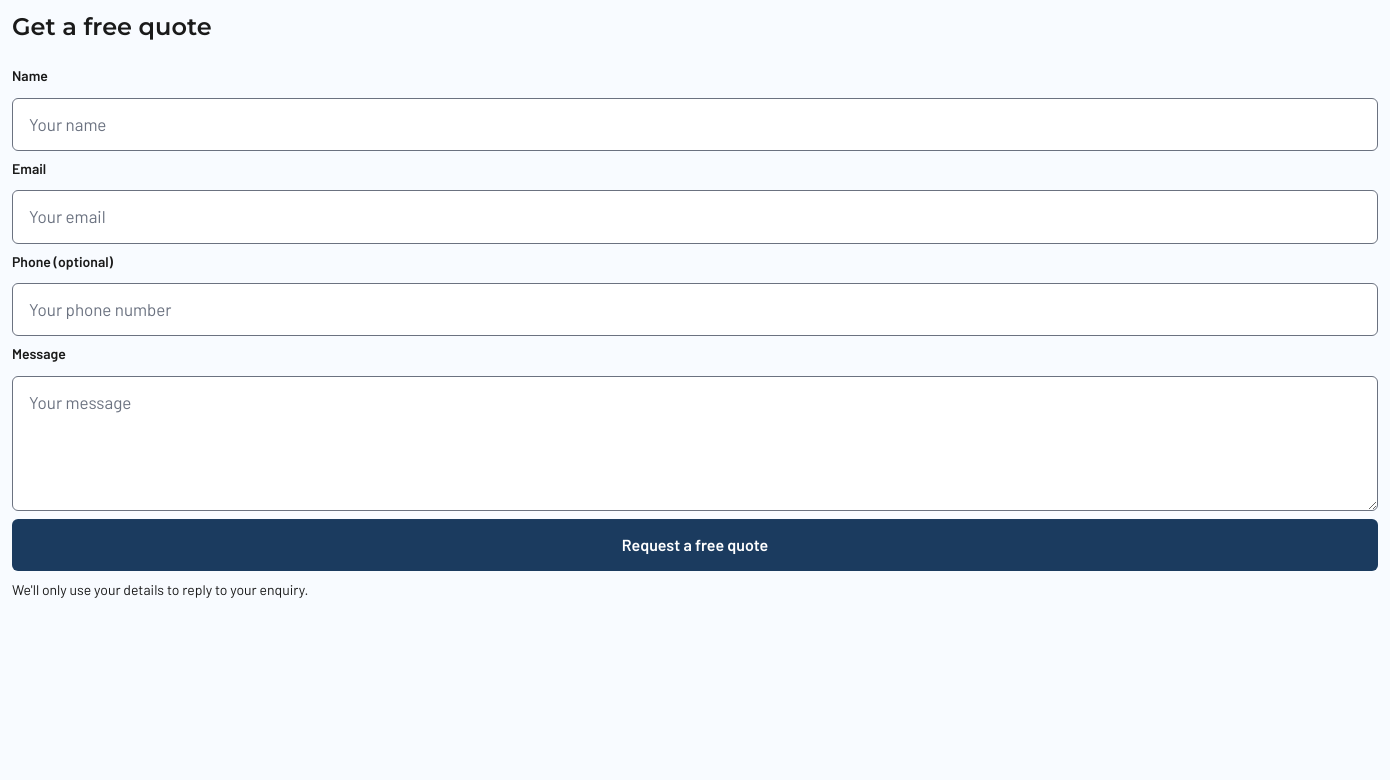
it: QuoteRequest › validation › clears an error as soon as the field is fixed
The width and height of the screenshot is (1390, 780).
Click the button "Request a free quote" at (695, 545), box [12, 519, 1378, 571]
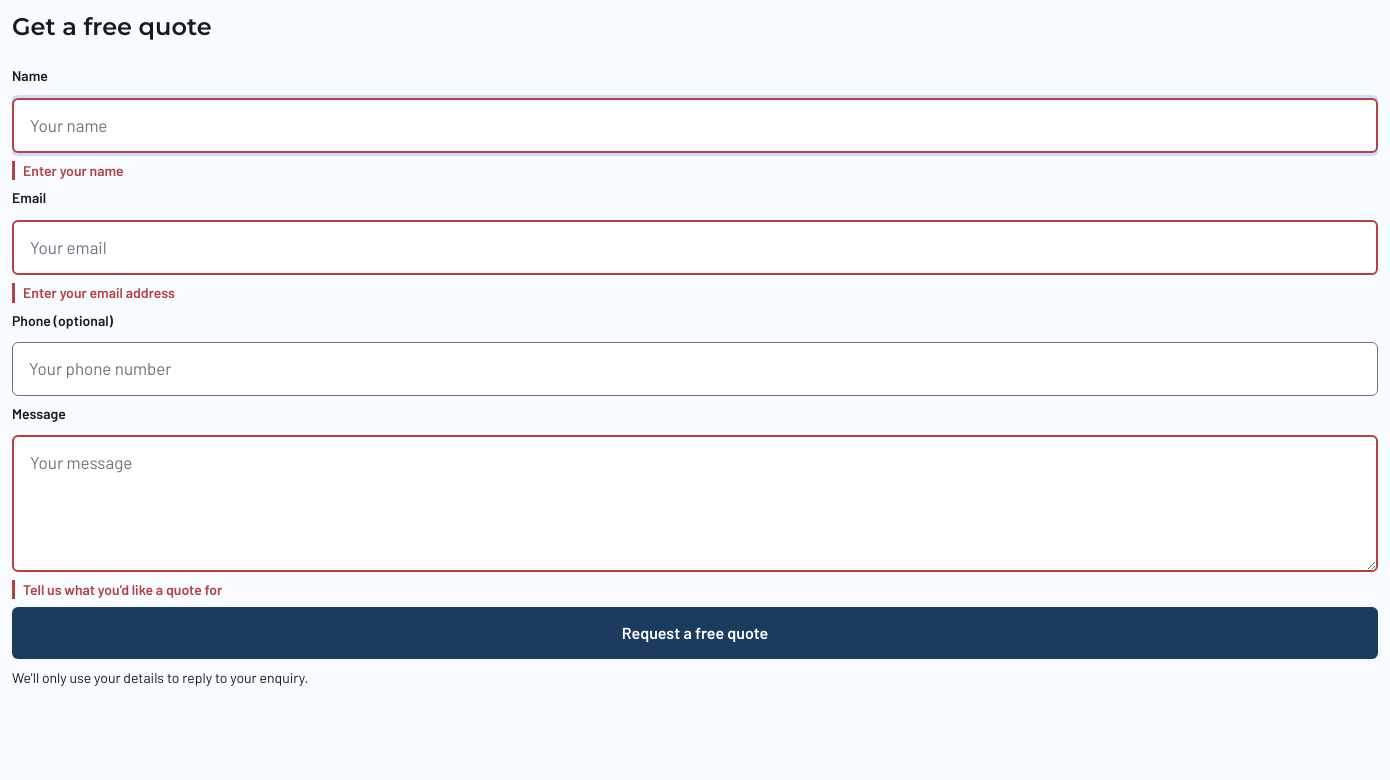
Type "S" into the field labelled "Name" at (695, 125), box [12, 98, 1378, 153]
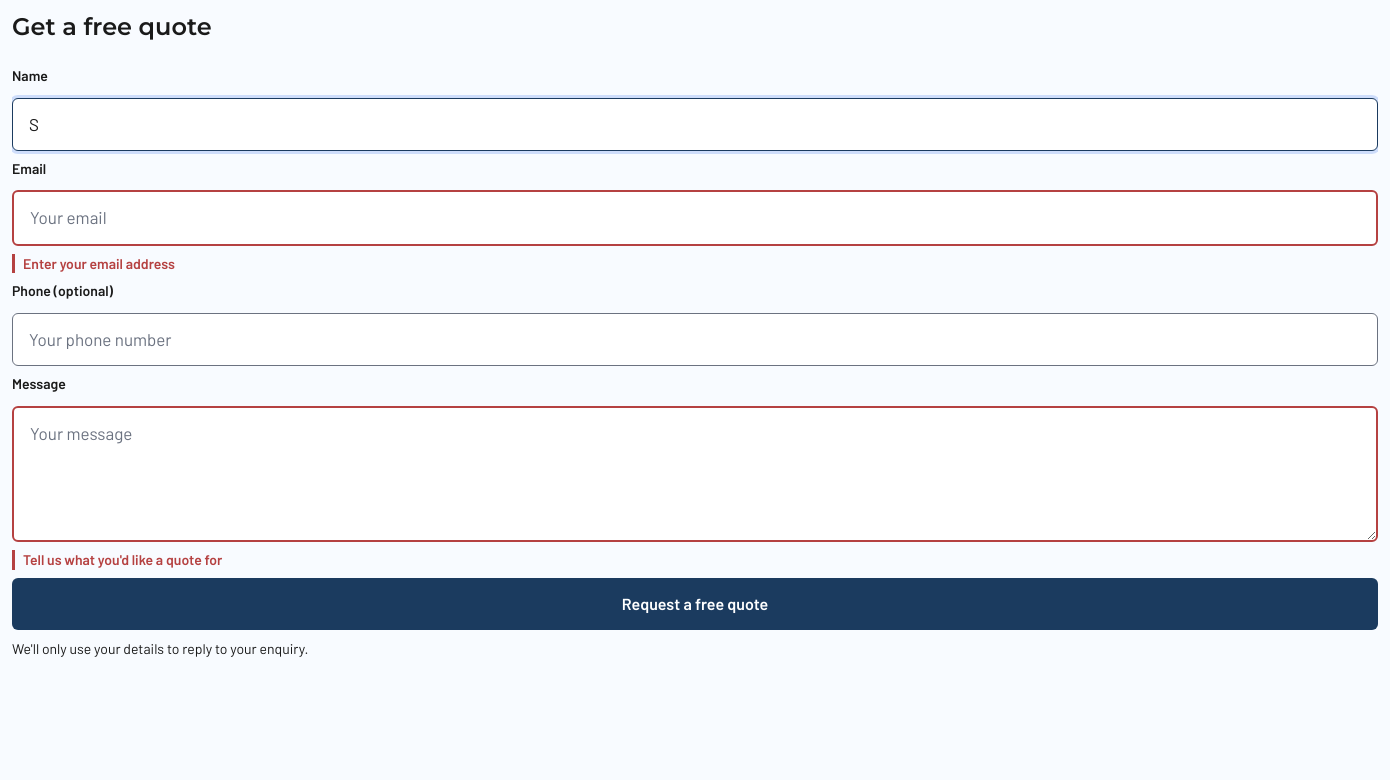
Now the text "Enter your name" is gone
